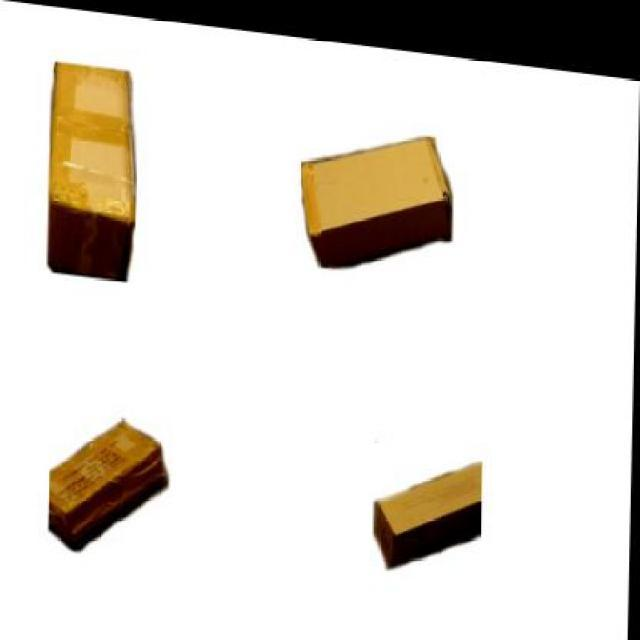box: (300, 115, 455, 266), (47, 57, 136, 276), (49, 406, 167, 550), (375, 438, 482, 562)
